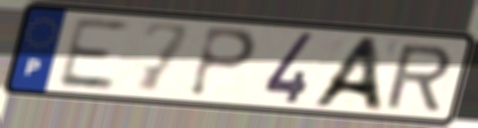4: (261, 31, 314, 107)
7: (138, 19, 192, 97)
A: (306, 35, 387, 113)
E: (53, 15, 132, 92)
P: (185, 24, 260, 100)
R: (382, 43, 456, 112)
